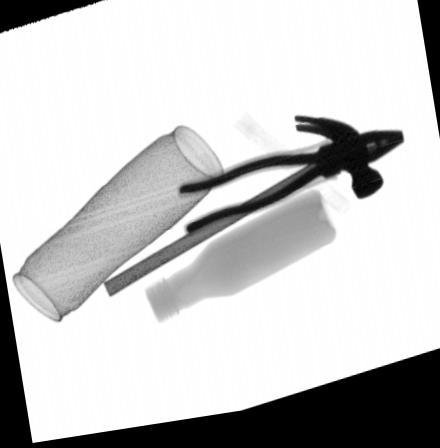Hammer: (103, 123, 385, 301)
Pliers: (176, 142, 406, 243)
